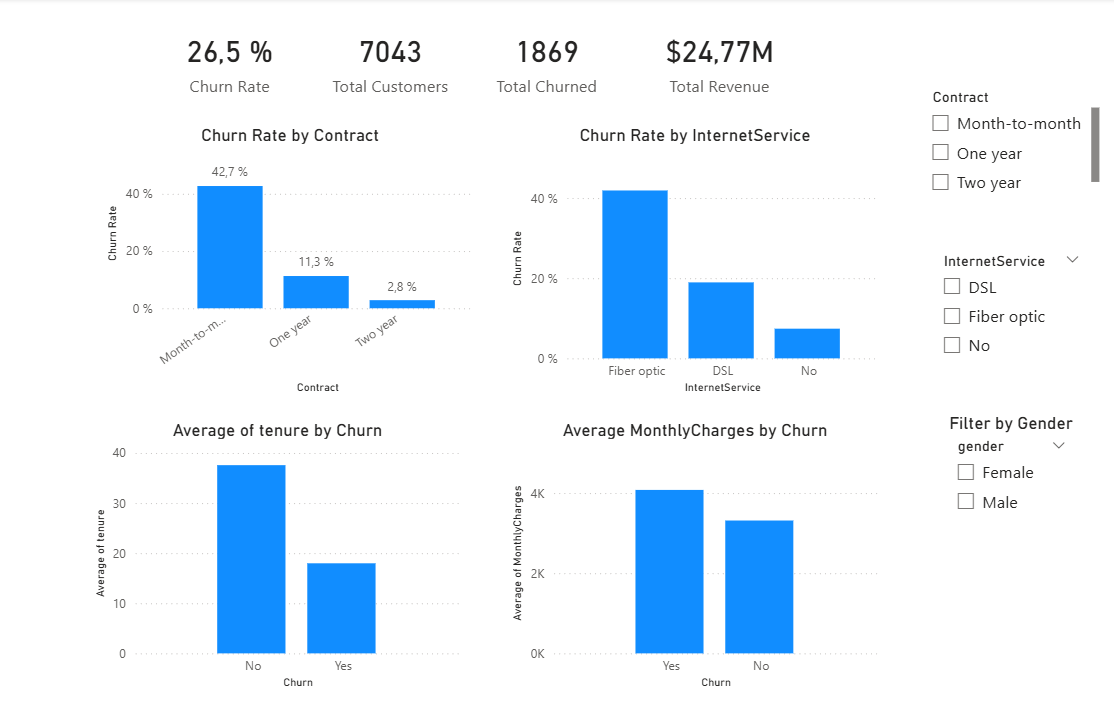

The dashboard page shown, as its layout file describes it:
{"tool":"powerbi","page":{"name":"Page 1","canvas":[1280,720],"ordinal":0},"visuals":[{"type":"card","fields":{"Values":["WA_Fn-UseC_-Telco-Customer-Churn.Churn Rate"]},"box":[316.2,16,174.3,90.6],"z":0},{"type":"card","fields":{"Values":["WA_Fn-UseC_-Telco-Customer-Churn.Total Customers"]},"box":[494.9,19.5,131.7,83.7],"z":1000},{"type":"card","fields":{"Values":["WA_Fn-UseC_-Telco-Customer-Churn.Total Churned"]},"box":[631.1,19.8,166.3,83.2],"z":2000},{"type":"card","fields":{"Values":["WA_Fn-UseC_-Telco-Customer-Churn.Total Revenue"]},"box":[801.9,20.8,161.9,81],"z":3000},{"type":"group","id":"g1","title":"Group 1","box":[266.6,123.3,776.5,557.6],"z":4000},{"type":"clusteredColumnChart","fields":{"Category":["WA_Fn-UseC_-Telco-Customer-Churn.Contract"],"Y":["WA_Fn-UseC_-Telco-Customer-Churn.Churn Rate"]},"box":[278.8,123.3,368.1,269],"z":4000,"group":"g1"},{"type":"group","id":"g2","title":"Group 2","box":[1078.5,83.2,181,434.1],"z":5000},{"type":"clusteredColumnChart","fields":{"Y":["WA_Fn-UseC_-Telco-Customer-Churn.Churn Rate"],"Category":["WA_Fn-UseC_-Telco-Customer-Churn.InternetService"]},"box":[675,123.3,368.1,269],"z":5000,"group":"g1"},{"type":"clusteredColumnChart","fields":{"Y":["Avg(WA_Fn-UseC_-Telco-Customer-Churn.tenure)"],"Category":["WA_Fn-UseC_-Telco-Customer-Churn.Churn"]},"box":[266.6,411.9,368.1,269],"z":6000,"group":"g1"},{"type":"clusteredColumnChart","title":"Average MonthlyCharges by Churn","fields":{"Y":["Avg(WA_Fn-UseC_-Telco-Customer-Churn.MonthlyCharges)"],"Category":["WA_Fn-UseC_-Telco-Customer-Churn.Churn"]},"box":[675,411.9,368.1,269],"z":7000,"group":"g1"},{"type":"slicer","fields":{"Values":["WA_Fn-UseC_-Telco-Customer-Churn.Contract"]},"box":[1078.5,83.2,181,113.7],"z":8000,"group":"g2"},{"type":"slicer","fields":{"Values":["WA_Fn-UseC_-Telco-Customer-Churn.InternetService"]},"box":[1088.9,242.8,157.7,117.4],"z":9000,"group":"g2"},{"type":"slicer","title":"Filter by Gender","fields":{"Values":["WA_Fn-UseC_-Telco-Customer-Churn.gender"]},"box":[1102.3,406,130.8,111.3],"z":10000,"group":"g2"}]}

Visuals, with their boxes on the page's 1280x720 design canvas (x1, y1, x2, y2). These are canvas units, not pixel positions in the 1114x715 screenshot, which may show the page scaled, cropped or inside an application window:
card - WA_Fn-UseC_-Telco-Customer-Churn.Churn Rate: [316,16,490,107]
card - WA_Fn-UseC_-Telco-Customer-Churn.Total Customers: [495,20,627,103]
card - WA_Fn-UseC_-Telco-Customer-Churn.Total Churned: [631,20,797,103]
card - WA_Fn-UseC_-Telco-Customer-Churn.Total Revenue: [802,21,964,102]
"Group 1" group: [267,123,1043,681]
clusteredColumnChart - WA_Fn-UseC_-Telco-Customer-Churn.Contract x WA_Fn-UseC_-Telco-Customer-Churn.Churn Rate: [279,123,647,392]
"Group 2" group: [1078,83,1260,517]
clusteredColumnChart - WA_Fn-UseC_-Telco-Customer-Churn.Churn Rate x WA_Fn-UseC_-Telco-Customer-Churn.InternetService: [675,123,1043,392]
clusteredColumnChart - Avg(WA_Fn-UseC_-Telco-Customer-Churn.tenure) x WA_Fn-UseC_-Telco-Customer-Churn.Churn: [267,412,635,681]
"Average MonthlyCharges by Churn" clusteredColumnChart: [675,412,1043,681]
slicer - WA_Fn-UseC_-Telco-Customer-Churn.Contract: [1078,83,1260,197]
slicer - WA_Fn-UseC_-Telco-Customer-Churn.InternetService: [1089,243,1247,360]
"Filter by Gender" slicer: [1102,406,1233,517]
